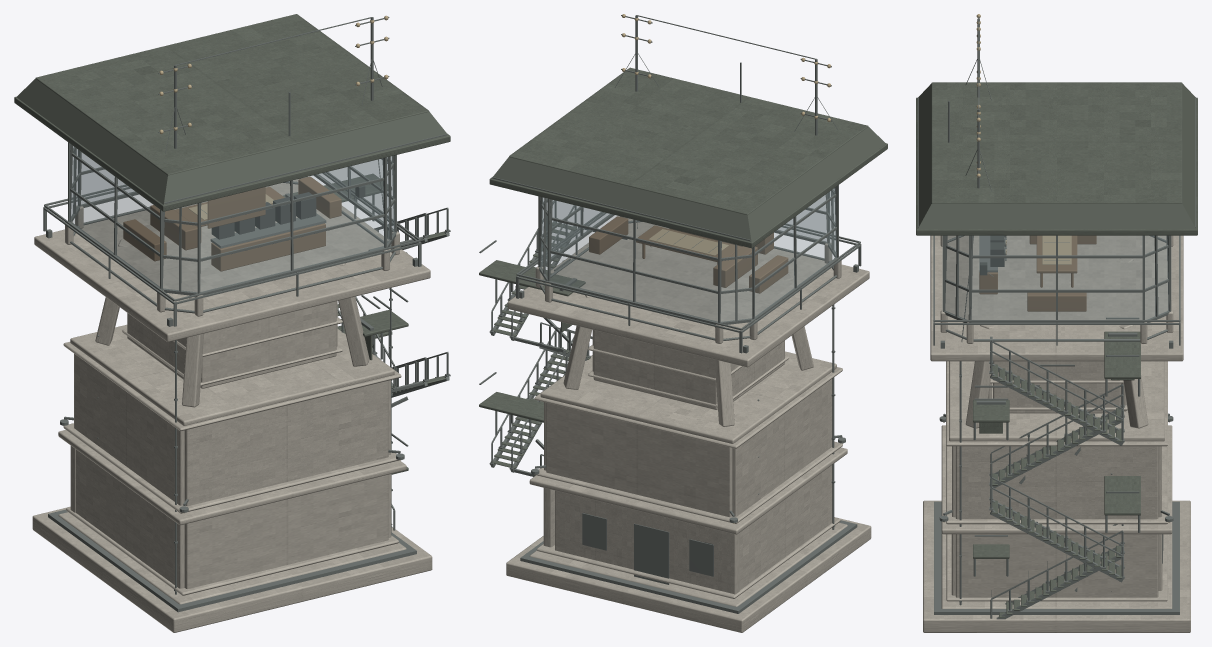
The model's file is Control_Tower_HQ_23.glb.
The picture shows the model from 3 angles, left to right: view 1: azimuth 30°, elevation 25°; view 2: azimuth 150°, elevation 25°; view 3: azimuth 270°, elevation 25°; orthographic projection. The views are drawn at different scales.
Parts seen in each view (by area): view 1: HQ23 Tower | Combined | aged poured concrete and wartime pai, HQ23 Tower | Combined | faded galvanized wartime roof sheet, HQ23 Tower | Combined | lightly smoky wartime laminated glas, HQ23 Tower | Combined | dark oxide steel and stair structure, HQ23 Tower | Combined | dark varnished operations timber, HQ23 Tower | Combined | radio bakelite and dial glass; view 2: HQ23 Tower | Combined | aged poured concrete and wartime pai, HQ23 Tower | Combined | faded galvanized wartime roof sheet, HQ23 Tower | Combined | dark oxide steel and stair structure, HQ23 Tower | Combined | lightly smoky wartime laminated glas, HQ23 Tower | Combined | dark varnished operations timber, HQ23 Tower | Combined | folded map and canvas; view 3: HQ23 Tower | Combined | aged poured concrete and wartime pai, HQ23 Tower | Combined | faded galvanized wartime roof sheet, HQ23 Tower | Combined | dark oxide steel and stair structure, HQ23 Tower | Combined | lightly smoky wartime laminated glas, HQ23 Tower | Combined | dark varnished operations timber, HQ23 Tower | Combined | folded map and canvas, HQ23 Tower | Combined | radio bakelite and dial glass.
Part boxes in pixels (x1=…): HQ23 Tower | Combined | aged poured concrete and wartime pai: x1=32, y1=176, x2=432, y2=632; HQ23 Tower | Combined | faded galvanized wartime roof sheet: x1=14, y1=14, x2=450, y2=524; HQ23 Tower | Combined | lightly smoky wartime laminated glas: x1=70, y1=146, x2=394, y2=292; HQ23 Tower | Combined | dark oxide steel and stair structure: x1=43, y1=16, x2=450, y2=612; HQ23 Tower | Combined | dark varnished operations timber: x1=123, y1=176, x2=341, y2=271; HQ23 Tower | Combined | radio bakelite and dial glass: x1=211, y1=185, x2=365, y2=239; HQ23 Tower | Combined | aged poured concrete and wartime pai: x1=506, y1=216, x2=871, y2=632; HQ23 Tower | Combined | faded galvanized wartime roof sheet: x1=479, y1=67, x2=887, y2=468; HQ23 Tower | Combined | dark oxide steel and stair structure: x1=479, y1=15, x2=861, y2=613; HQ23 Tower | Combined | lightly smoky wartime laminated glas: x1=540, y1=188, x2=836, y2=321; HQ23 Tower | Combined | dark varnished operations timber: x1=589, y1=216, x2=788, y2=293; HQ23 Tower | Combined | folded map and canvas: x1=534, y1=14, x2=842, y2=523; HQ23 Tower | Combined | aged poured concrete and wartime pai: x1=923, y1=235, x2=1190, y2=632; HQ23 Tower | Combined | faded galvanized wartime roof sheet: x1=916, y1=82, x2=1197, y2=617; HQ23 Tower | Combined | dark oxide steel and stair structure: x1=918, y1=16, x2=1195, y2=619; HQ23 Tower | Combined | lightly smoky wartime laminated glas: x1=945, y1=236, x2=1168, y2=319; HQ23 Tower | Combined | dark varnished operations timber: x1=979, y1=235, x2=1096, y2=311; HQ23 Tower | Combined | folded map and canvas: x1=943, y1=14, x2=1169, y2=522; HQ23 Tower | Combined | radio bakelite and dial glass: x1=980, y1=235, x2=1006, y2=275.
Bounding box in the file's own units: 14.48 × 22.67 × 11.35.
7 materials, 2 textured.
